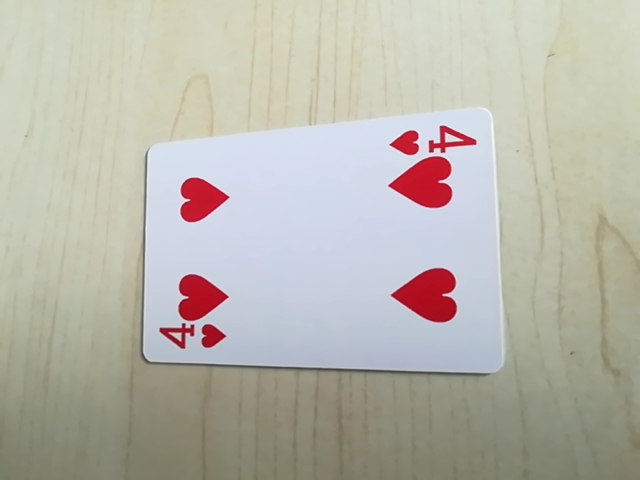hx 4: (385, 120, 480, 160), (151, 322, 230, 359)
